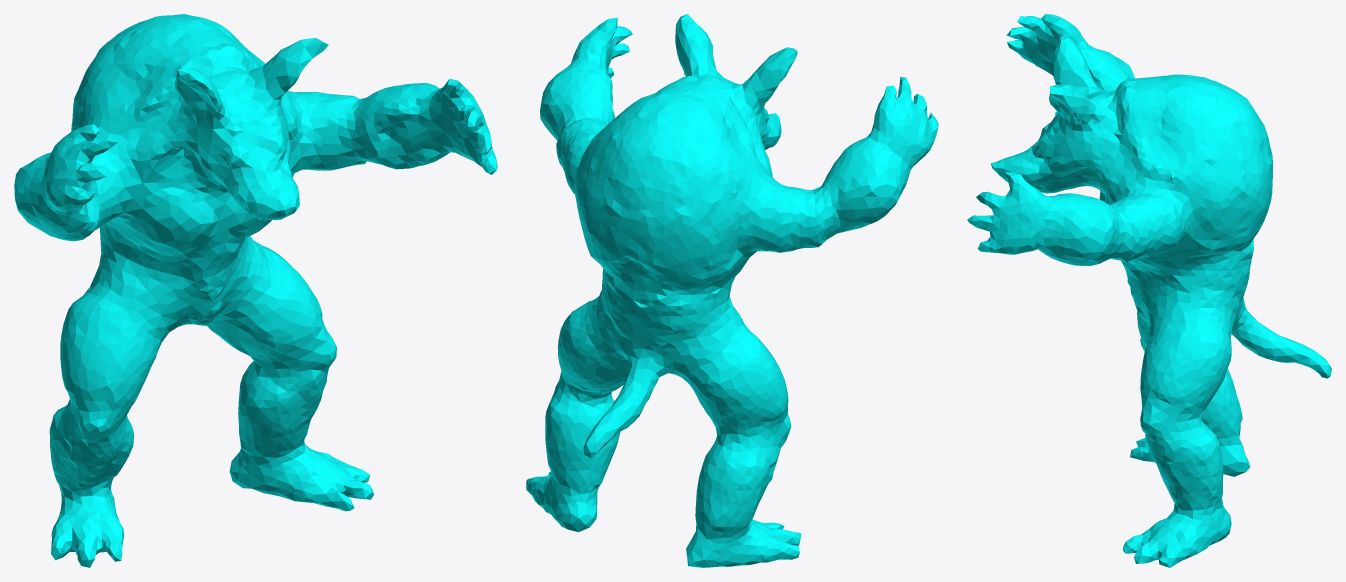
File: armadillo.obj
3 renders of one model, left to right at view 1: azimuth 30°, elevation 25°; view 2: azimuth 150°, elevation 25°; view 3: azimuth 270°, elevation 25°, orthographic. The views are drawn at different scales.
Size of the model in its own units: 1.26 by 1.5 by 1.13.
